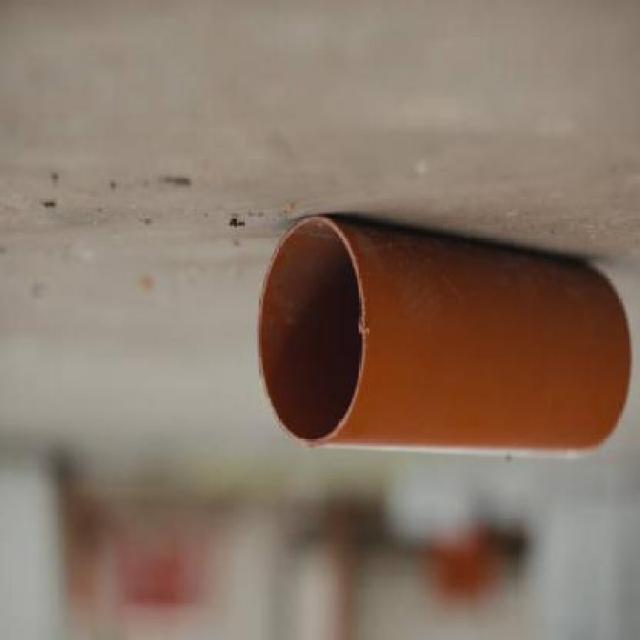pipe: (259, 216, 367, 445)
